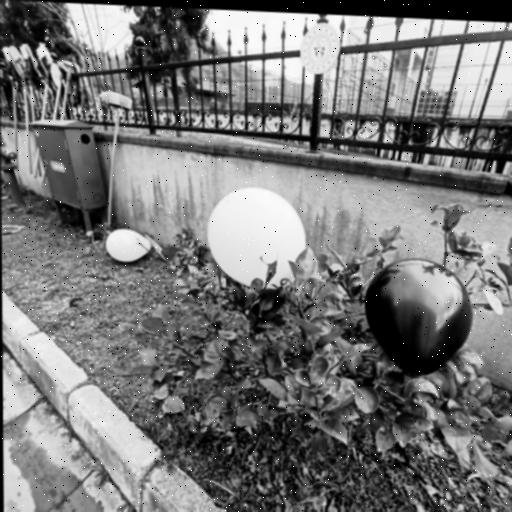balloon: (367, 259, 475, 379), (208, 186, 307, 293), (105, 228, 151, 266)
